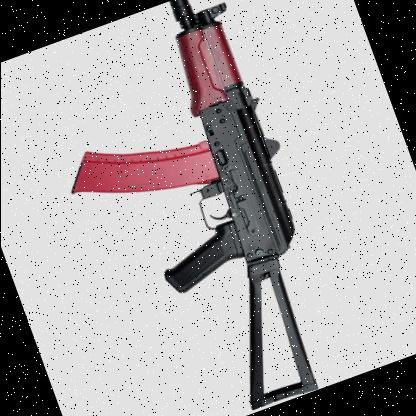rifle: (25, 0, 390, 416)
